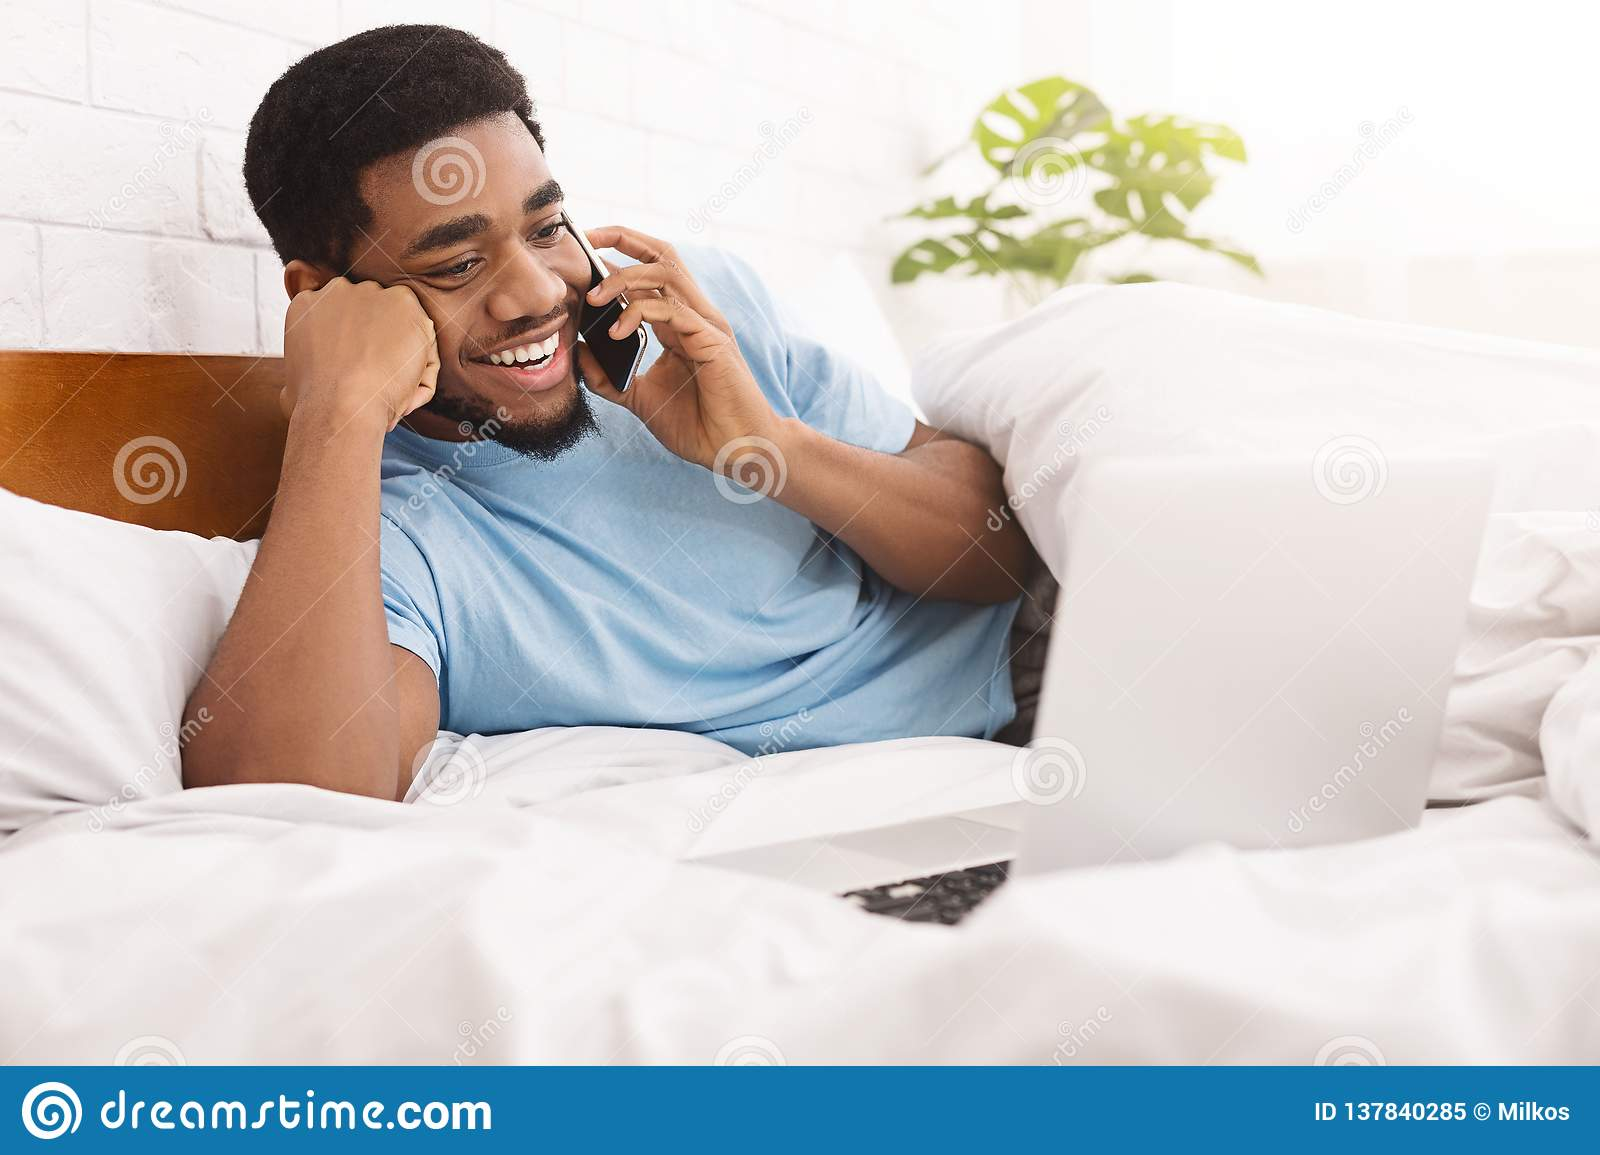phone: (561, 202, 653, 397)
talk: (404, 171, 770, 468)
